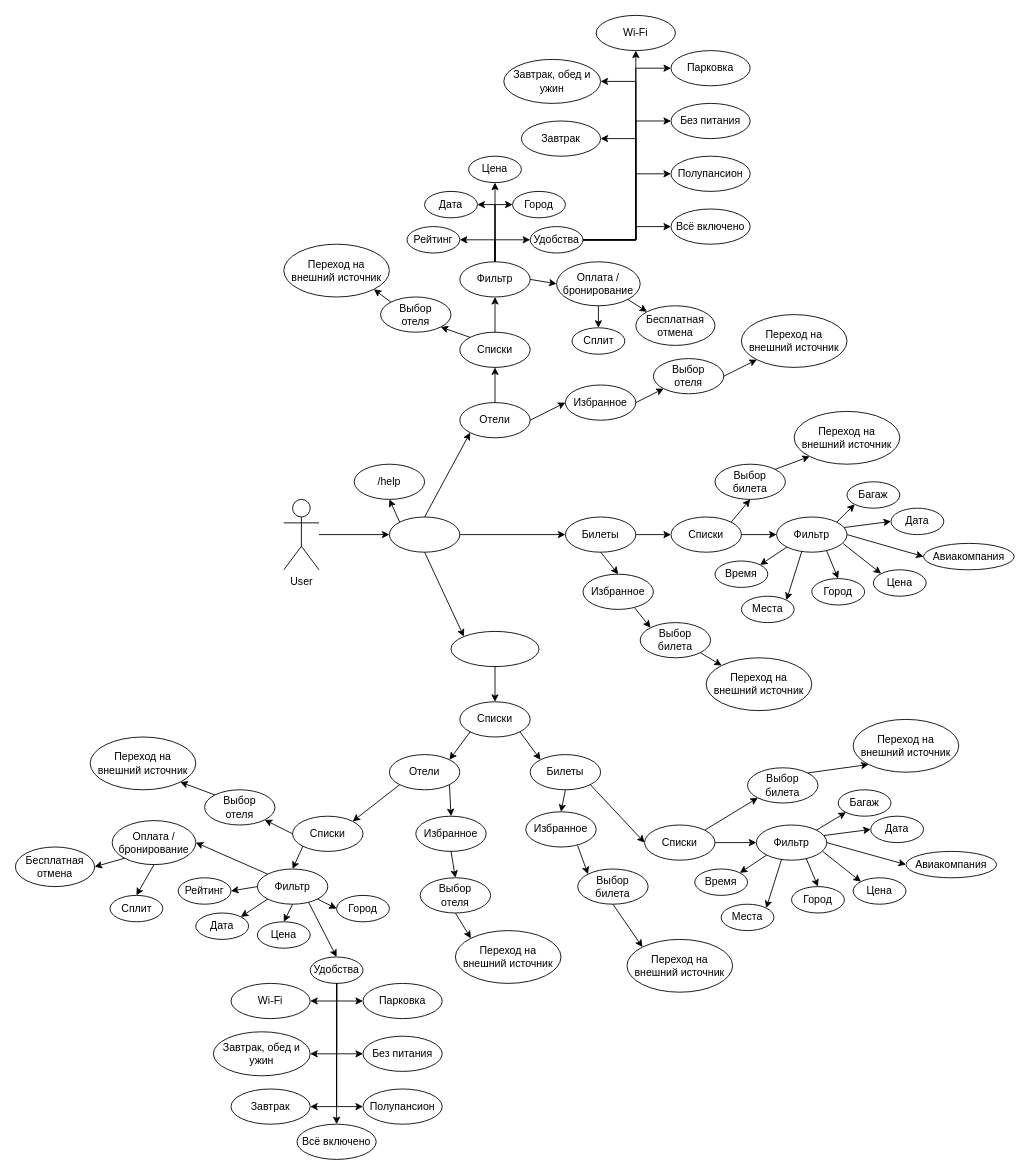
This 1030x1175 diagram has some shape labels left out. The box of each missing label's shape, as (x1, y1, x2, y2) in pixels:
/start: (389, 516, 460, 552)
Мультивыбор: (450, 631, 539, 667)
